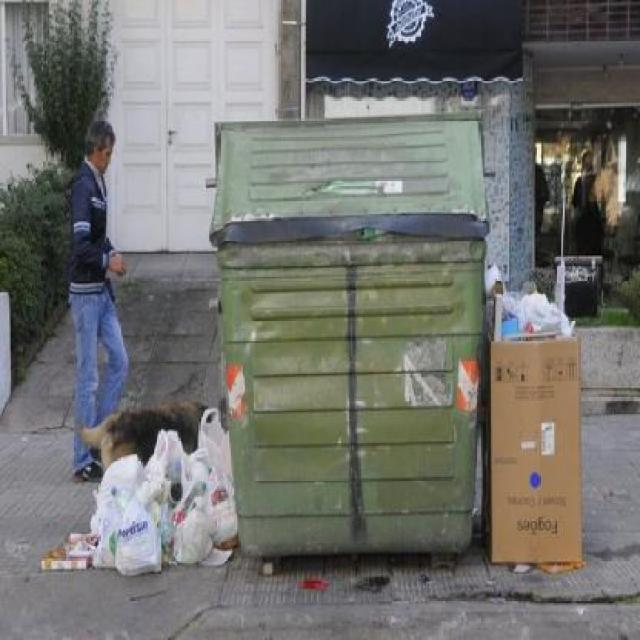garbage: (483, 320, 632, 604), (91, 412, 244, 554), (480, 263, 573, 348), (8, 489, 92, 573)
